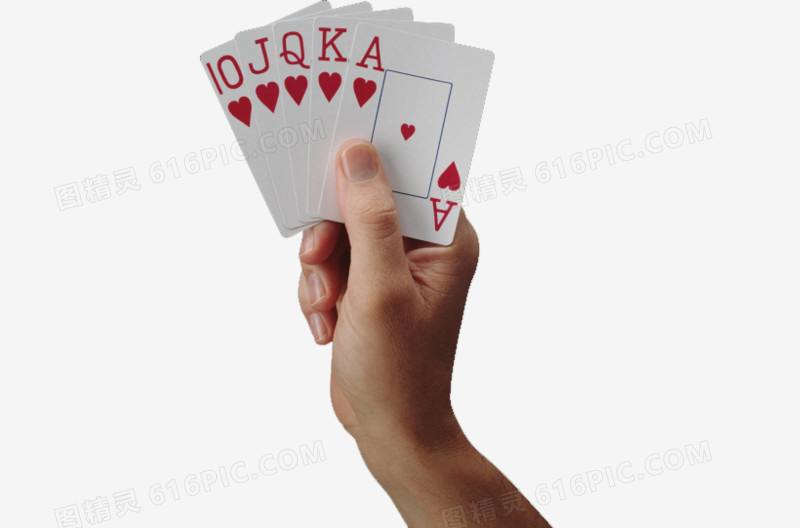no-phone: (291, 13, 487, 463)
